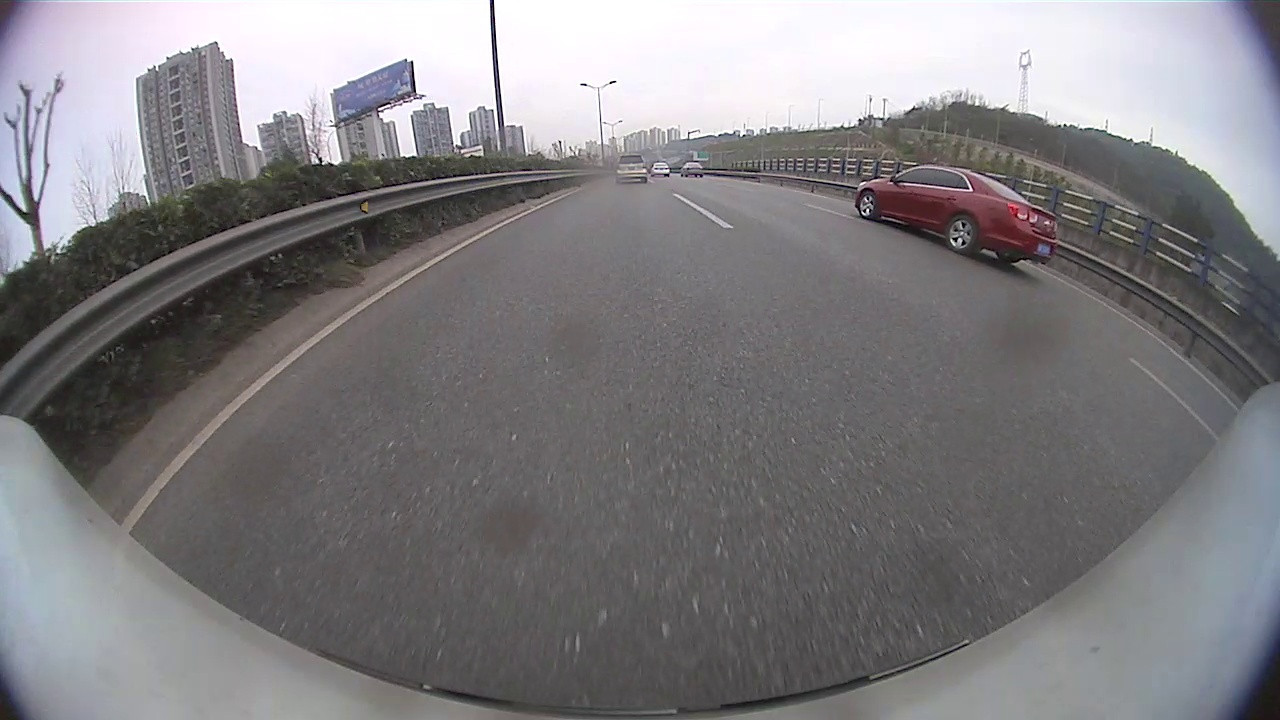car: (852, 162, 1060, 265), (613, 153, 649, 183)
front: (857, 191, 878, 222)
rear: (946, 215, 979, 255)
